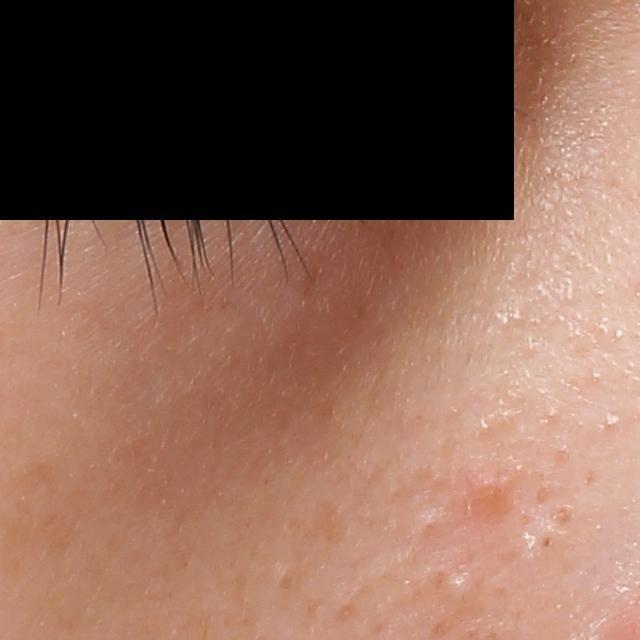comedo: (401, 500, 456, 555), (444, 566, 481, 612), (600, 406, 624, 435), (543, 401, 567, 425), (537, 533, 558, 554)
